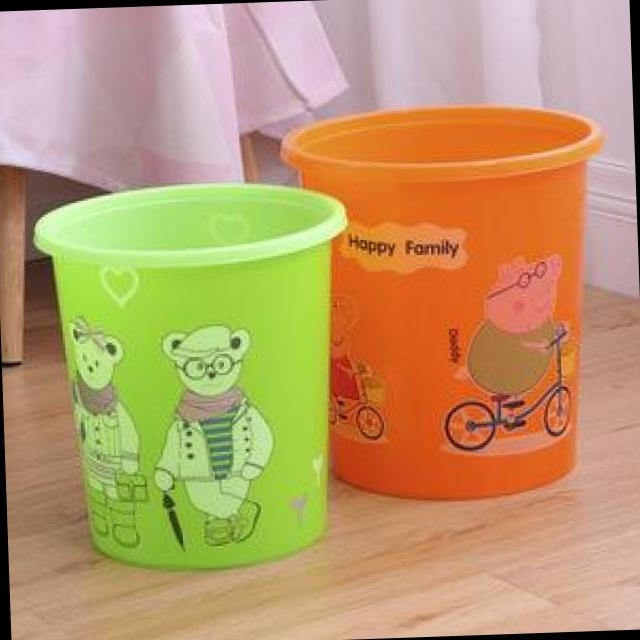dustbin: (274, 92, 620, 510), (26, 170, 363, 580)
